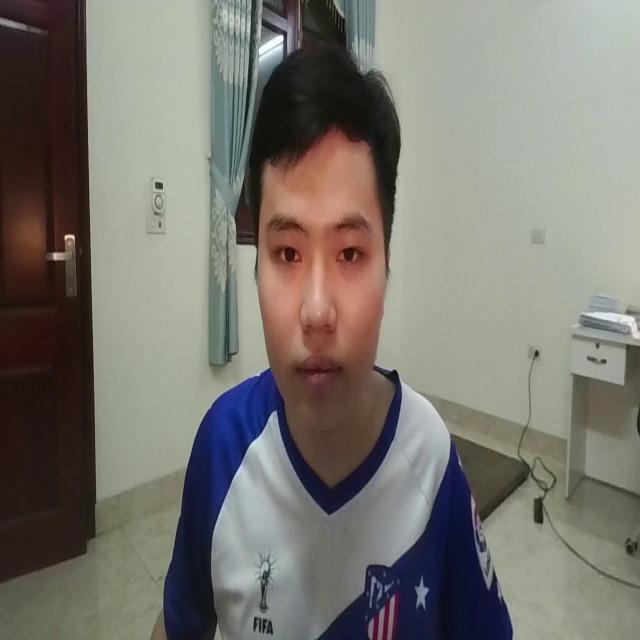student: (131, 50, 516, 640)
